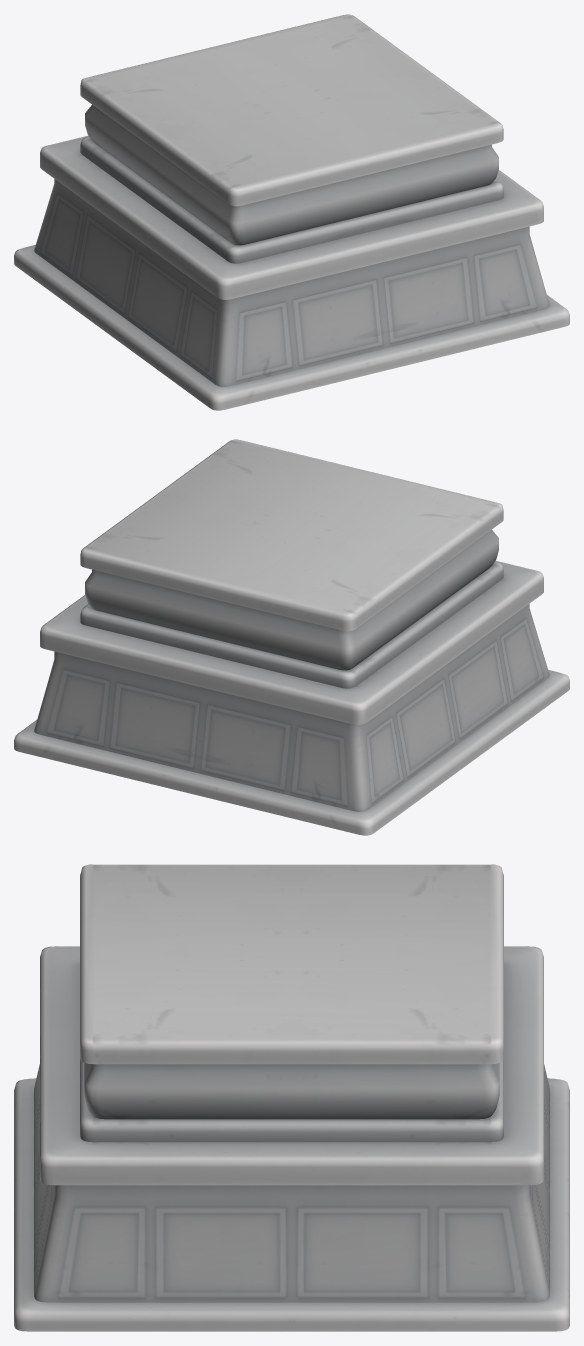
The model's file is ParkPedestal01_3.FBX.
3 views of the same model, one above another, from view 1: azimuth 30°, elevation 25°; view 2: azimuth 150°, elevation 25°; view 3: azimuth 270°, elevation 25° (orthographic). The views are drawn at different scales.
Visible parts, largest first — view 1: ParkPedestal01_3; view 2: ParkPedestal01_3; view 3: ParkPedestal01_3.
Part boxes in pixels (box(x1,y1,x2,y2)): ParkPedestal01_3: box(14, 14, 569, 410); ParkPedestal01_3: box(14, 439, 569, 835); ParkPedestal01_3: box(14, 864, 569, 1331).
Size of what is drawn, in the model's own units: 1.96 by 1 by 1.94.
